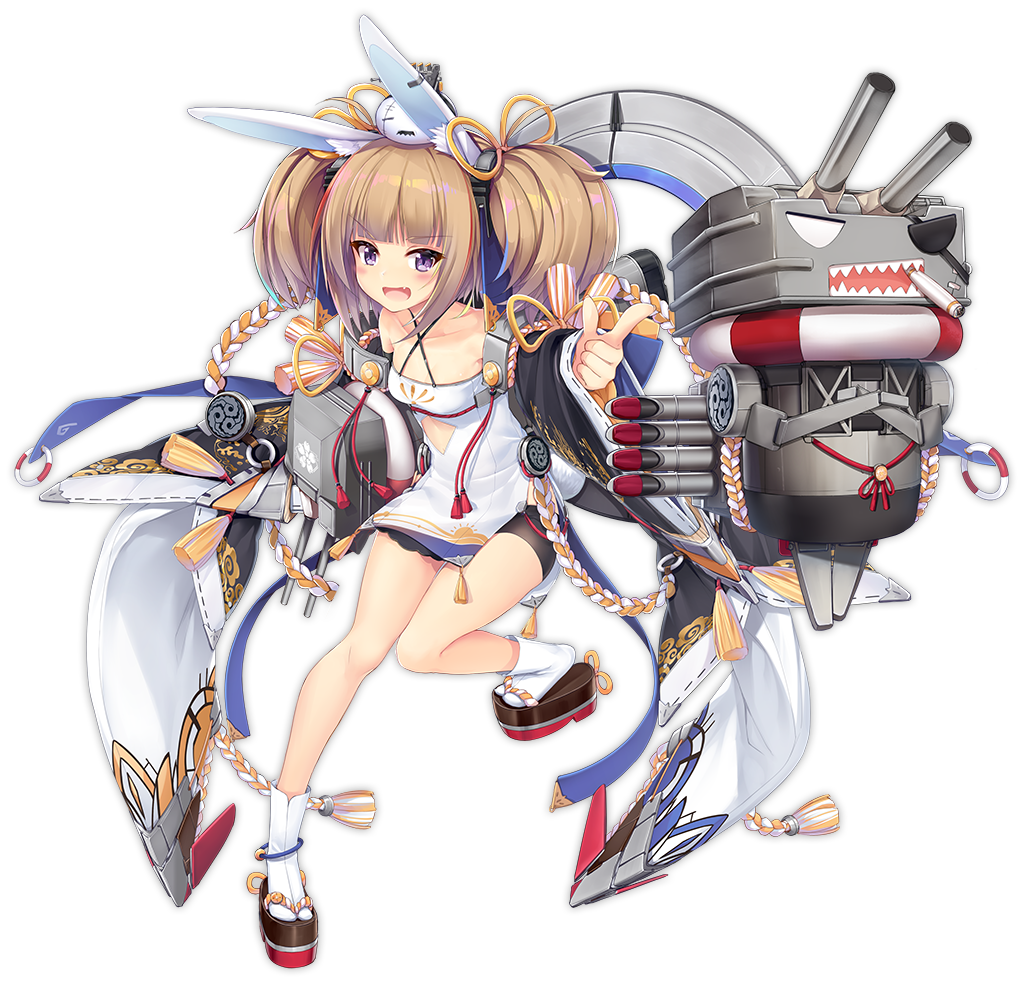person: (124, 113, 707, 834)
